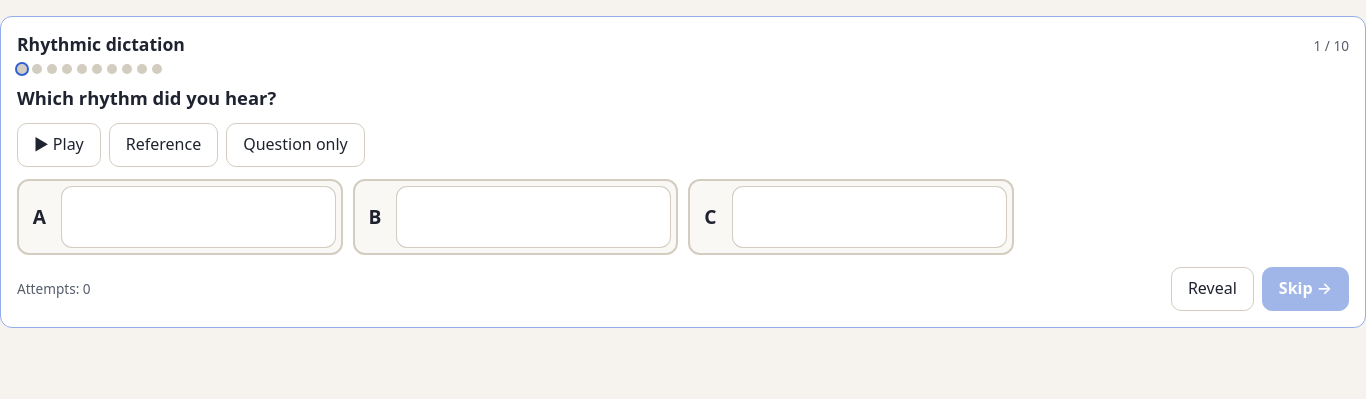
Test case: ear & theory exercises › ear-rhythm choose renders notation options
The width and height of the screenshot is (1366, 399).
Click the button "A".
click(180, 217)  # box top-left (17, 179), bottom-right (342, 255)
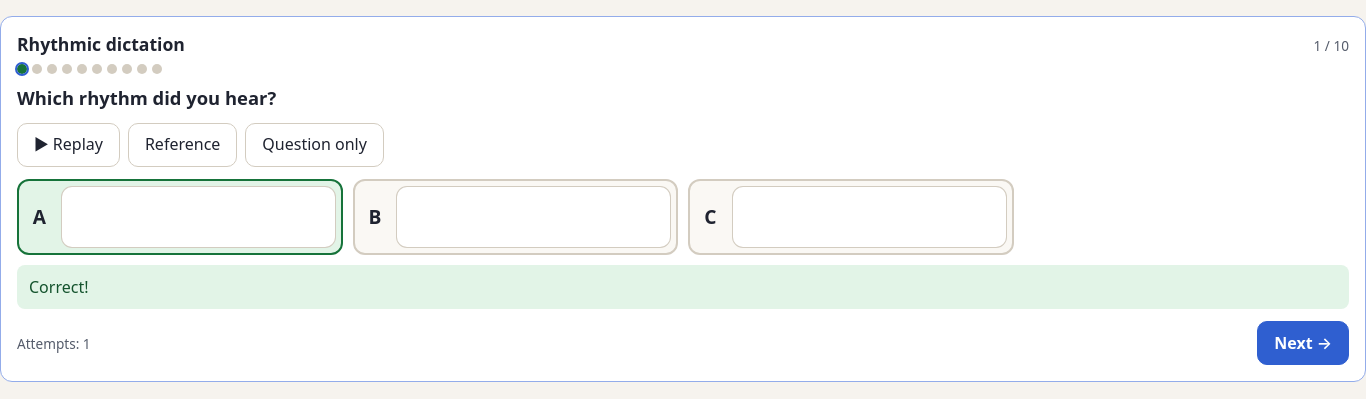
Expected: the message shows "Correct", top-left (29, 276), bottom-right (88, 298)
